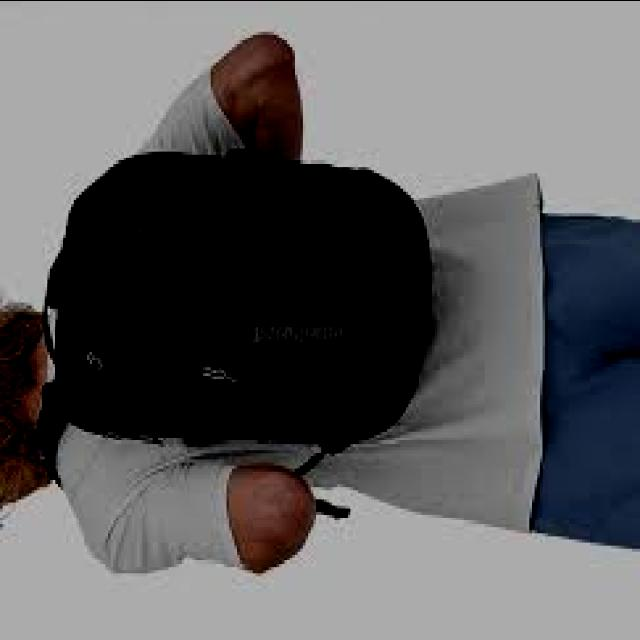backpack: (35, 149, 433, 493)
